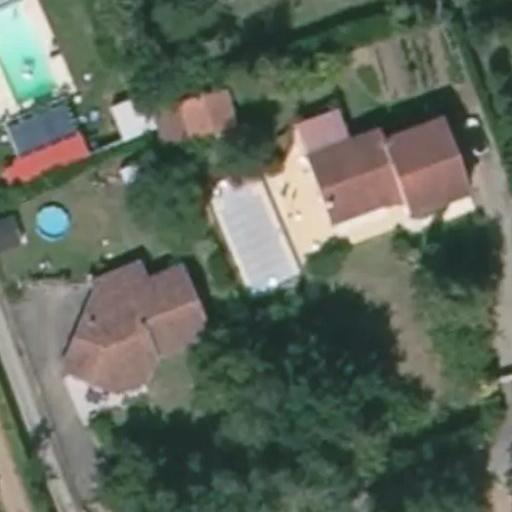pool: (221, 212, 290, 271)
